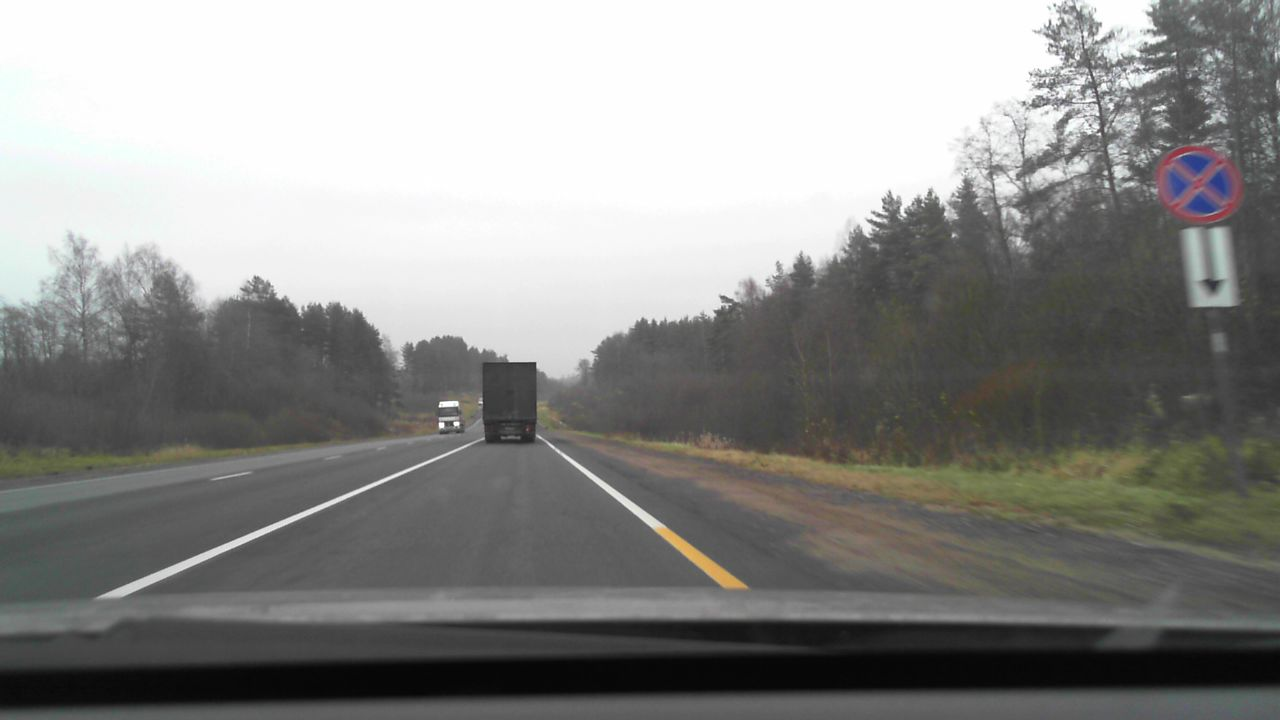No Parking: (1157, 146, 1241, 223)
